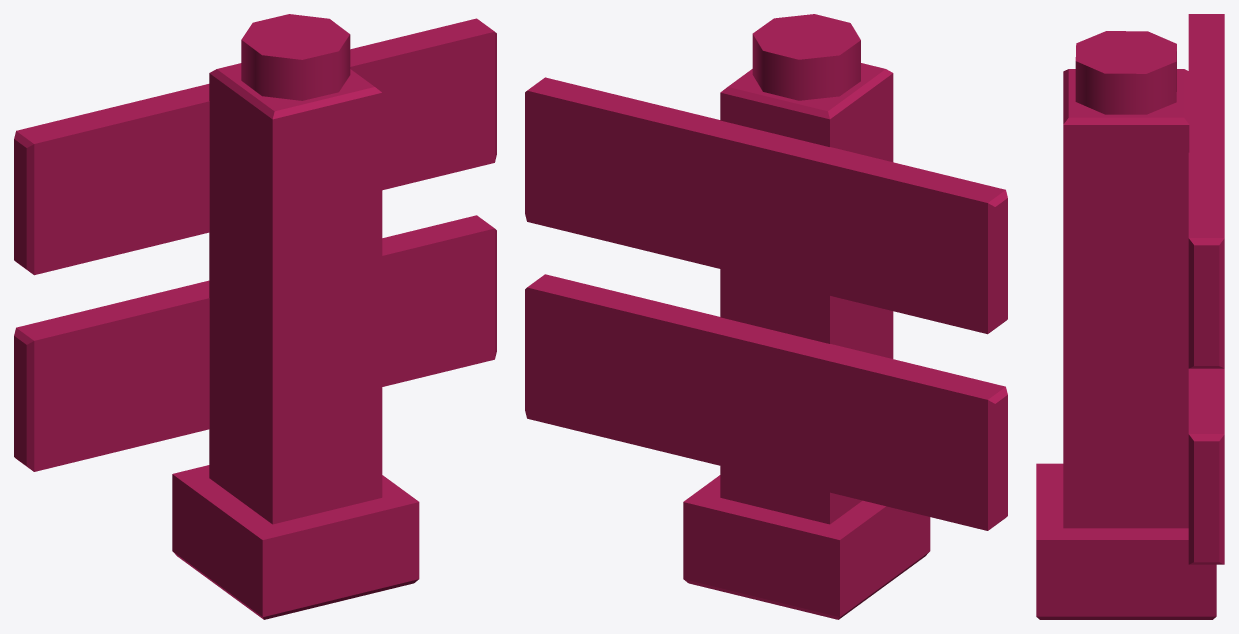
File: Part_Fence_1.FBX
3 views of the same model, side by side, from view 1: azimuth 30°, elevation 25°; view 2: azimuth 150°, elevation 25°; view 3: azimuth 270°, elevation 25° (orthographic).
Parts seen in each view (by area): view 1: Part_Fence_1; view 2: Part_Fence_1; view 3: Part_Fence_1.
Boxes of the visible parts, x1,y1,x2,y2 form: Part_Fence_1: (14,14,496,619); Part_Fence_1: (525,14,1007,619); Part_Fence_1: (1036,14,1224,619).
Size of the model in its own units: 300 by 325 by 105.
